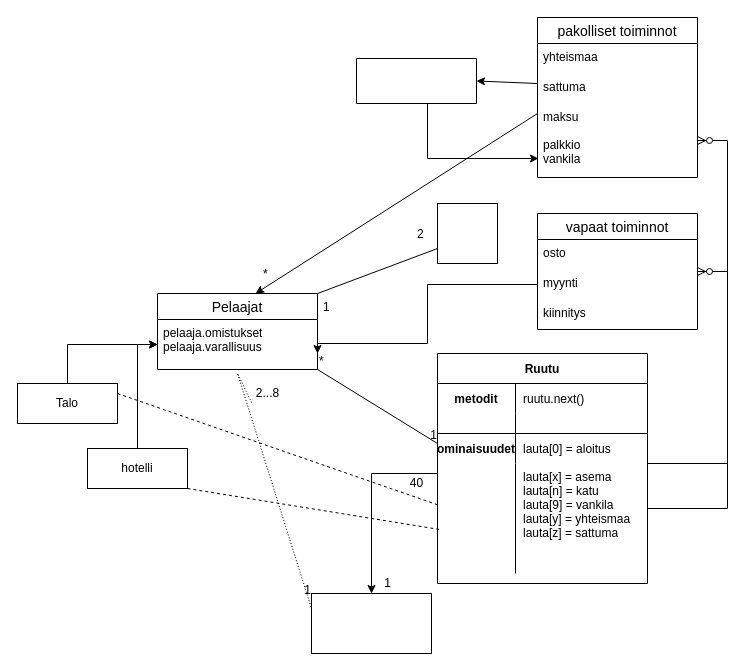
This 753x671 diagram has some shape labels left out. The centre of each missing label's shape, as x and y in pixels:
"Kortti" belongs at (x=416, y=81).
"Noppa" belongs at (x=467, y=233).
"Pelilauta" belongs at (x=371, y=623).
